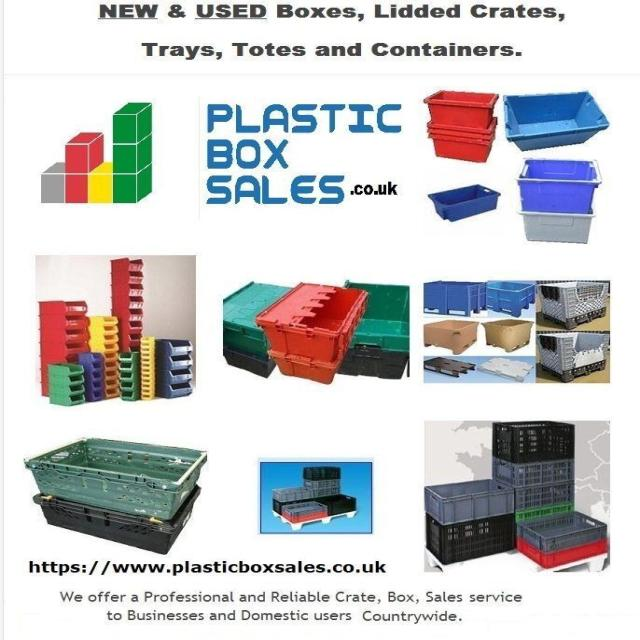basket: (16, 433, 207, 559), (239, 254, 373, 394), (20, 433, 207, 524), (210, 276, 290, 379), (423, 479, 517, 566), (512, 500, 615, 577), (503, 86, 611, 152), (421, 89, 500, 162), (38, 301, 89, 396), (517, 159, 603, 214), (345, 281, 410, 353), (426, 515, 514, 566), (430, 175, 505, 226), (493, 421, 576, 464), (109, 258, 143, 353), (338, 342, 410, 383), (423, 90, 498, 129), (493, 457, 575, 491), (87, 315, 120, 399), (521, 211, 595, 243), (424, 281, 488, 317), (155, 340, 194, 399), (483, 278, 538, 319), (424, 319, 480, 357), (514, 481, 578, 512), (480, 318, 534, 354), (46, 362, 85, 408), (77, 353, 104, 402), (280, 500, 329, 526), (315, 491, 359, 519), (117, 352, 141, 402), (140, 336, 155, 400)
